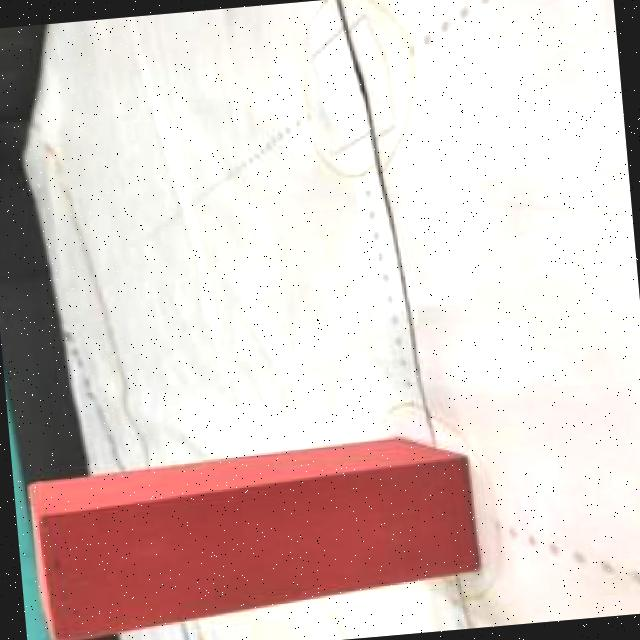redbox: (22, 425, 484, 640)
